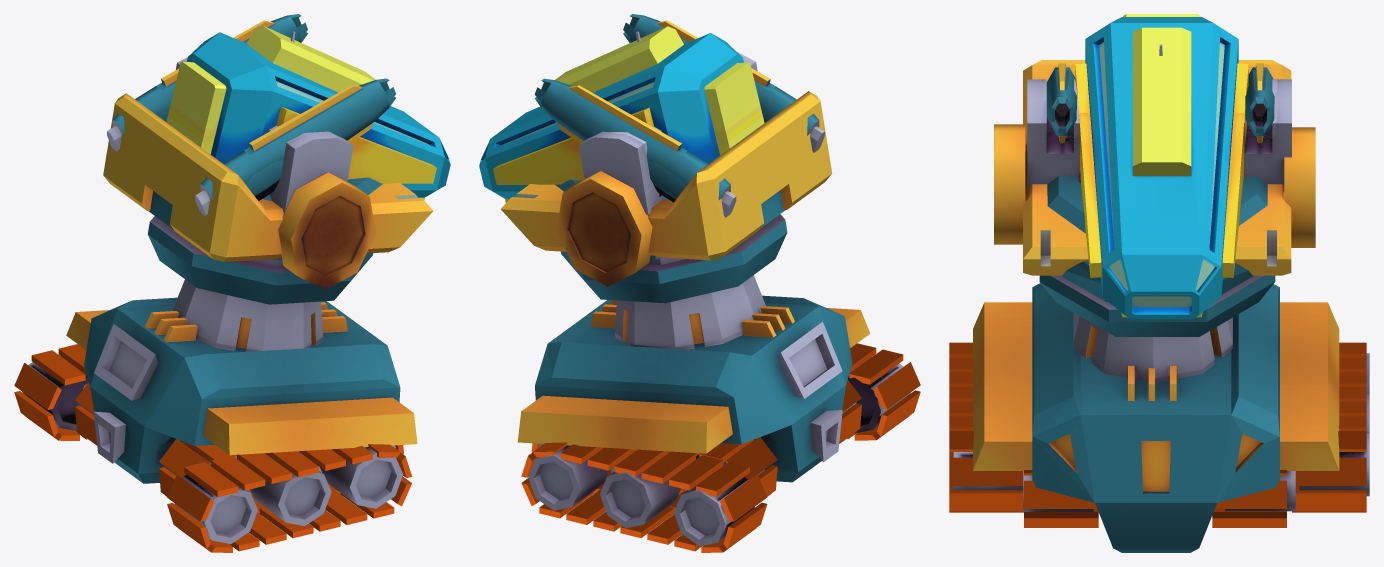
File: Player_move_2_Upgrade12.obj
3 views of the same model, side by side, from view 1: azimuth 30°, elevation 25°; view 2: azimuth 150°, elevation 25°; view 3: azimuth 270°, elevation 25° (orthographic). The views are drawn at different scales.
Parts seen in each view (by area): view 1: Object015, Box020, Box018, Object014, Box019, Box017, Box016; view 2: Object015, Box019, Box018, Object014, Box020, Box016, Box017; view 3: Object015, Box019, Box020, Object014, Box016, Box017, Box018, Box009.
Boxes of the visible parts, x1,y1,x2,y2 form: Object015: [66, 25, 450, 483]; Box020: [167, 444, 412, 552]; Box018: [22, 357, 403, 543]; Object014: [107, 14, 395, 216]; Box019: [14, 344, 87, 440]; Box017: [159, 439, 403, 513]; Box016: [75, 382, 97, 445]; Object015: [479, 26, 870, 482]; Box019: [521, 442, 767, 552]; Box018: [528, 357, 910, 546]; Object014: [534, 14, 824, 217]; Box020: [847, 343, 920, 440]; Box016: [531, 437, 777, 509]; Box017: [839, 380, 861, 443]; Object015: [973, 14, 1339, 552]; Box019: [1292, 342, 1366, 512]; Box020: [949, 342, 1023, 512]; Object014: [1046, 63, 1274, 143]; Box016: [1212, 470, 1286, 527]; Box017: [1024, 470, 1098, 527]; Box018: [953, 353, 1369, 496]; Box009: [1023, 471, 1295, 511].
Bounding box in the file's own units: 70.38 × 88.9 × 68.55.
6 materials, 4 textured.
